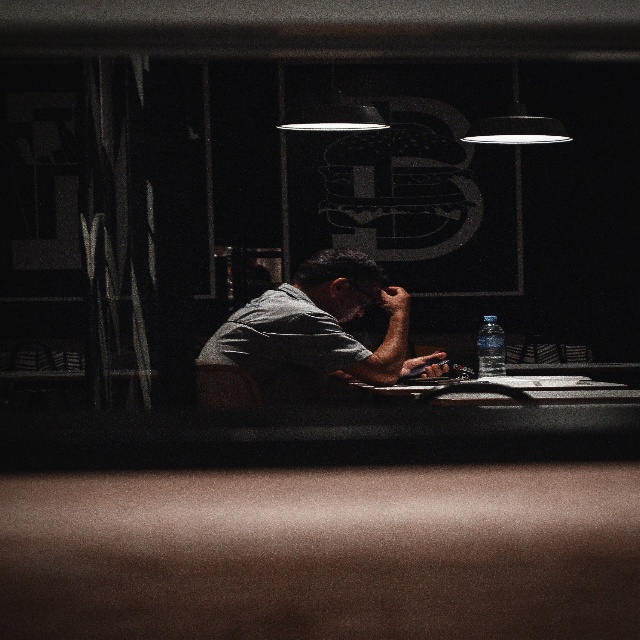Sin_guantes: (400, 350, 449, 379), (375, 284, 411, 318)
